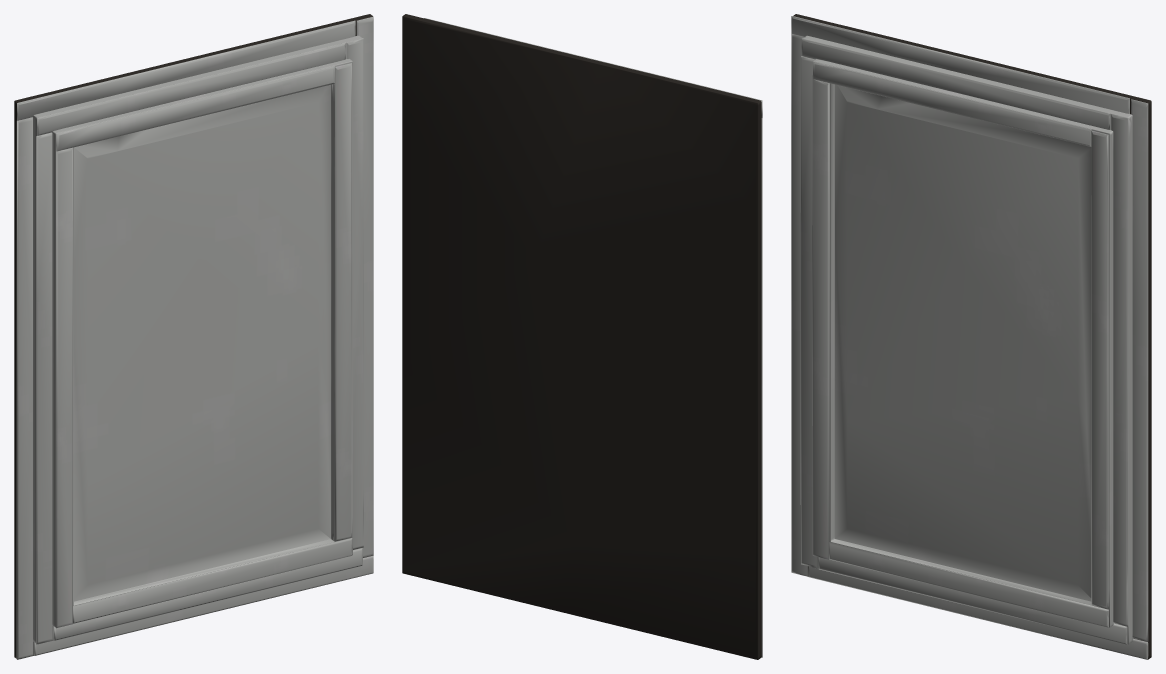
File: B0772KHYF7.glb
The picture shows the model from 3 angles, left to right: view 1: azimuth 30°, elevation 25°; view 2: azimuth 150°, elevation 25°; view 3: azimuth 330°, elevation 25°; orthographic projection.
Visible parts, largest first — view 1: "$ACDNDFDMDACAAAAAICBAAAAAAAAAJNNKILHK"; view 2: "$ACDNDFDMDACAAAAAICBAAAAAAAAAJNNKILHK"; view 3: "$ACDNDFDMDACAAAAAICBAAAAAAAAAJNNKILHK".
Boxes of the visible parts, box(x1,y1,x2,y2) form: "$ACDNDFDMDACAAAAAICBAAAAAAAAAJNNKILHK": box(14, 14, 373, 659); "$ACDNDFDMDACAAAAAICBAAAAAAAAAJNNKILHK": box(402, 14, 762, 659); "$ACDNDFDMDACAAAAAICBAAAAAAAAAJNNKILHK": box(791, 14, 1151, 659).
Bounding box in the file's own units: 0.613 × 0.9143 × 0.0392.
Materials: 1 (1 with a texture image).
